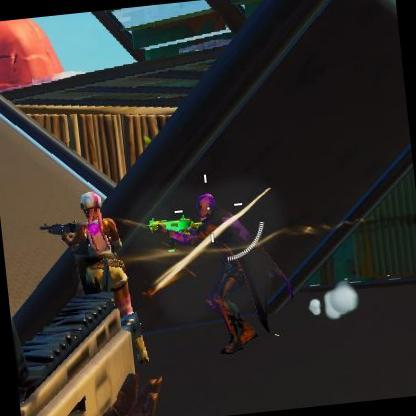person: (183, 189, 264, 365), (68, 187, 132, 297)
